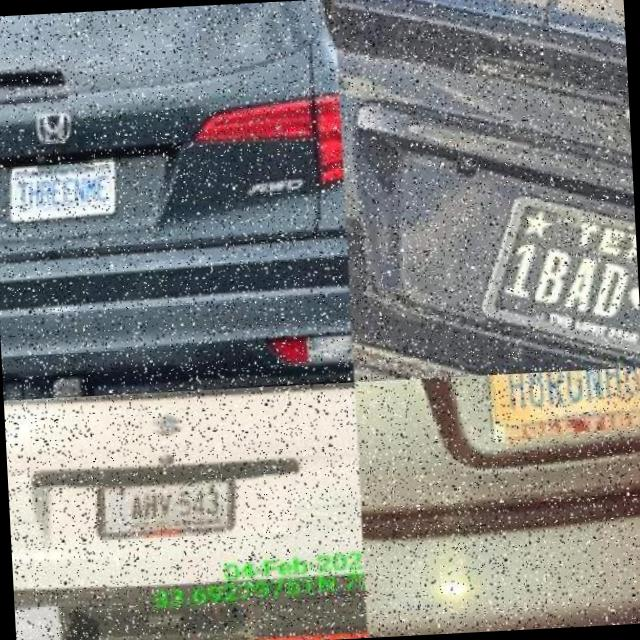LicensePlate: (470, 200, 640, 364), (482, 366, 640, 448), (94, 470, 238, 558), (3, 165, 110, 228)
